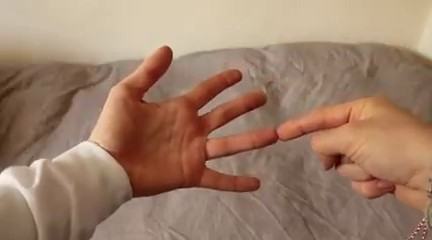O: (88, 36, 429, 209)
